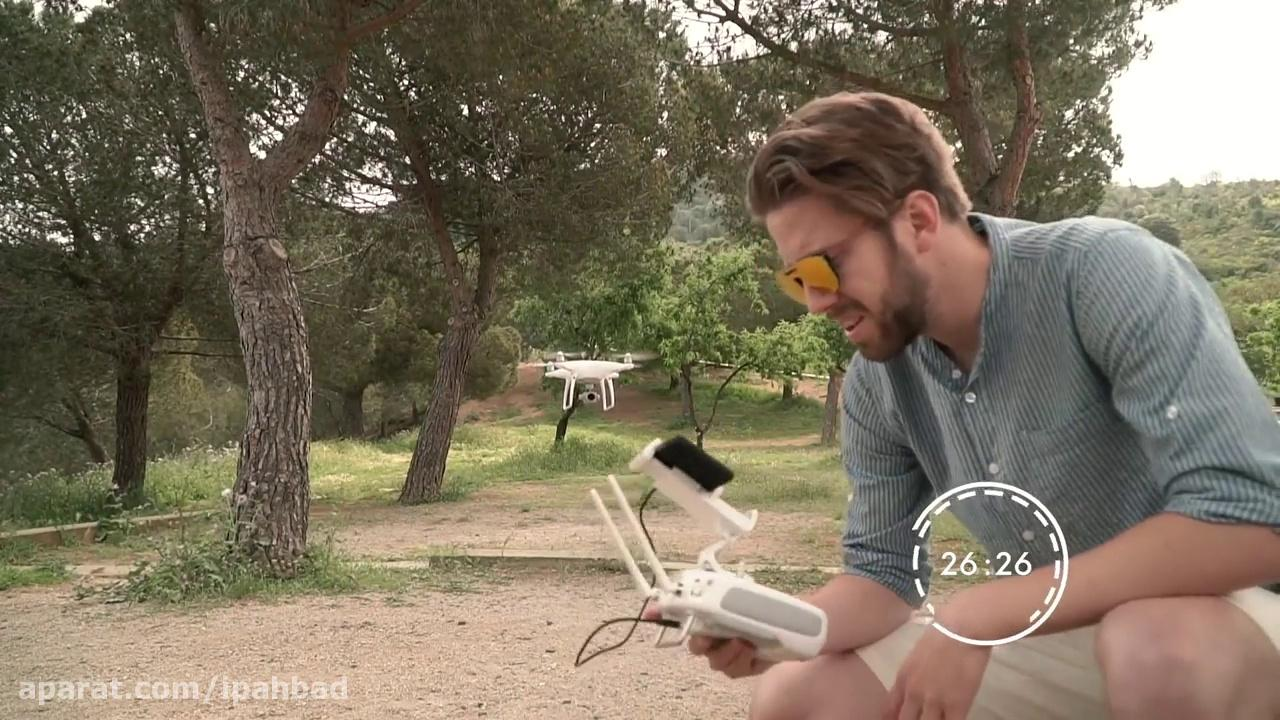drone: (517, 344, 656, 413)
